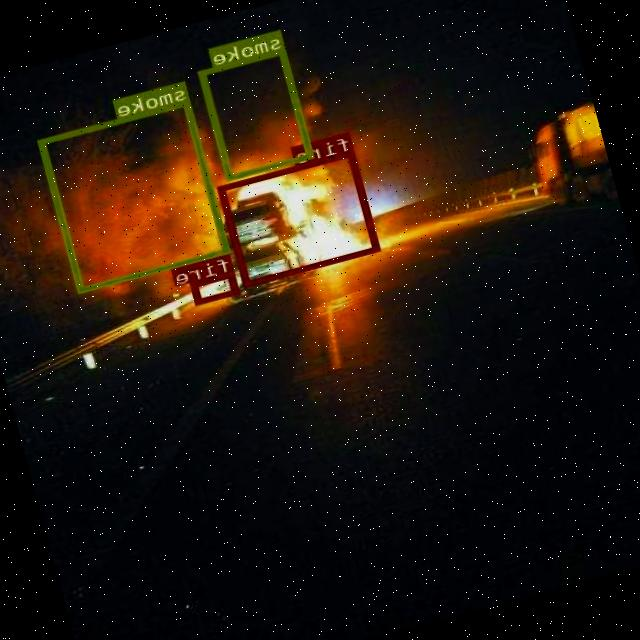fire: (218, 149, 380, 286), (192, 270, 240, 304)
smoke: (39, 98, 232, 292), (198, 47, 314, 179)
